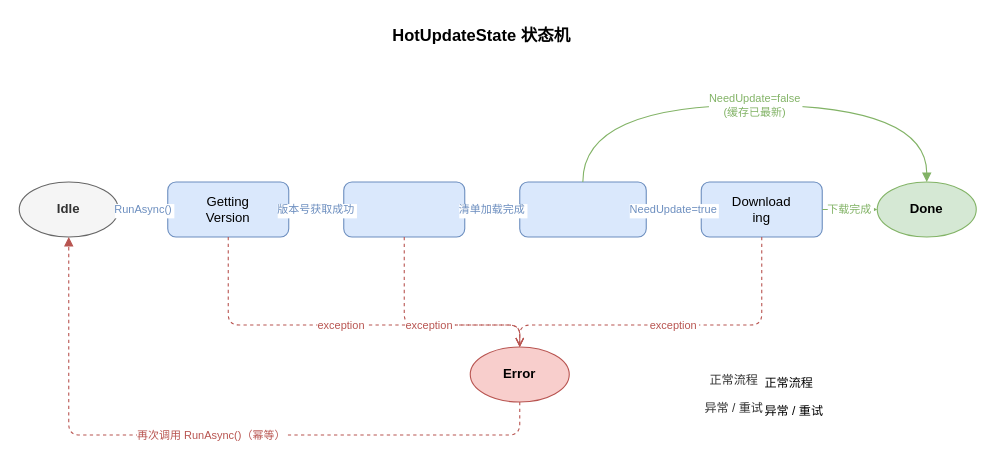
This 996x463 diagram has some shape labels left out. Each missing label, with the centre of its shape:
"Creating Downloader" goes at point 582,209.
"Updating Manifest" goes at point 404,209.
